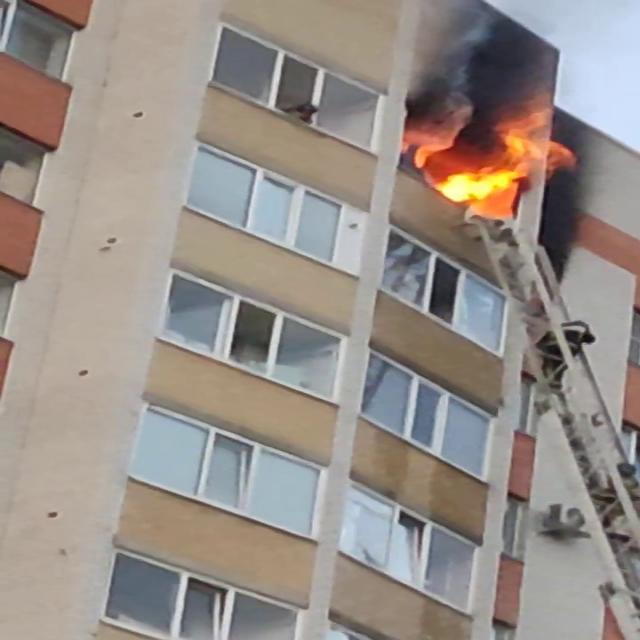Fire: (420, 121, 546, 214)
Smoke: (388, 0, 506, 130)
